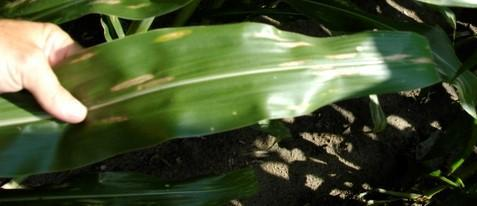Corn_Blight: (102, 70, 191, 105), (368, 49, 446, 74), (53, 40, 104, 73), (137, 25, 200, 51), (72, 109, 137, 134)
